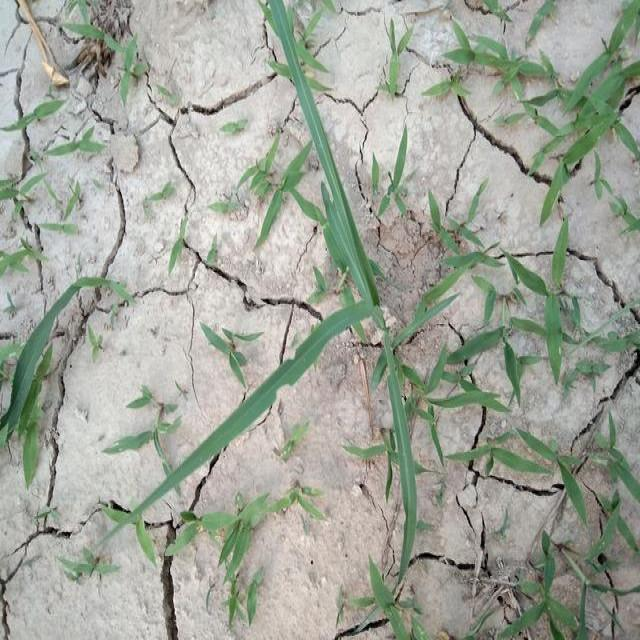weed: (414, 193, 586, 390), (278, 2, 382, 304), (358, 298, 466, 506), (14, 281, 75, 475), (190, 496, 267, 626), (431, 26, 555, 100), (520, 416, 588, 526), (559, 70, 621, 155), (198, 326, 256, 386), (368, 548, 402, 640), (72, 21, 121, 68), (43, 128, 120, 156), (382, 35, 411, 102), (112, 47, 141, 110), (0, 172, 44, 209), (11, 104, 61, 128)
